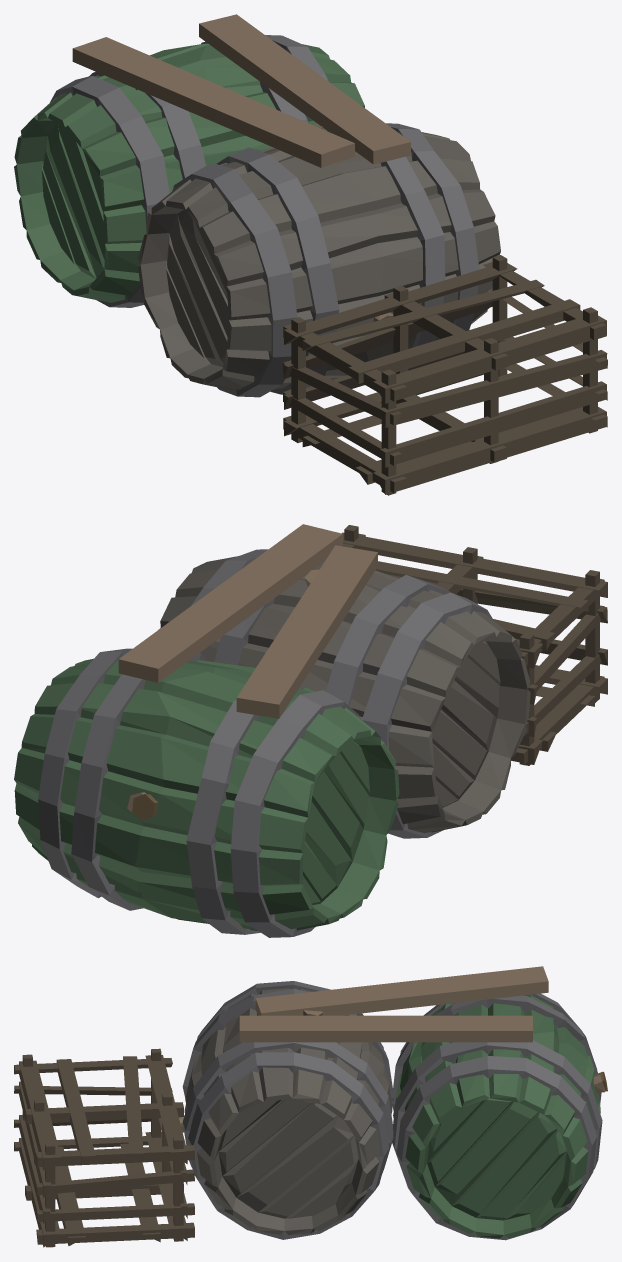
The model's file is SM_Prop_Stack_05.glb.
3 renders of one model, top to bottom at view 1: azimuth 30°, elevation 25°; view 2: azimuth 150°, elevation 25°; view 3: azimuth 270°, elevation 25°, orthographic. The views are drawn at different scales.
Visible parts, largest first — view 1: SM_Prop_Stack_05_part00; view 2: SM_Prop_Stack_05_part00; view 3: SM_Prop_Stack_05_part00.
Boxes of the visible parts, x1,y1,x2,y2 form: SM_Prop_Stack_05_part00: (14,14,607,495); SM_Prop_Stack_05_part00: (14,524,607,937); SM_Prop_Stack_05_part00: (14,966,607,1247).
Size of the model in its own units: 1.09 by 0.9011 by 2.4.
1 material, 1 textured.
